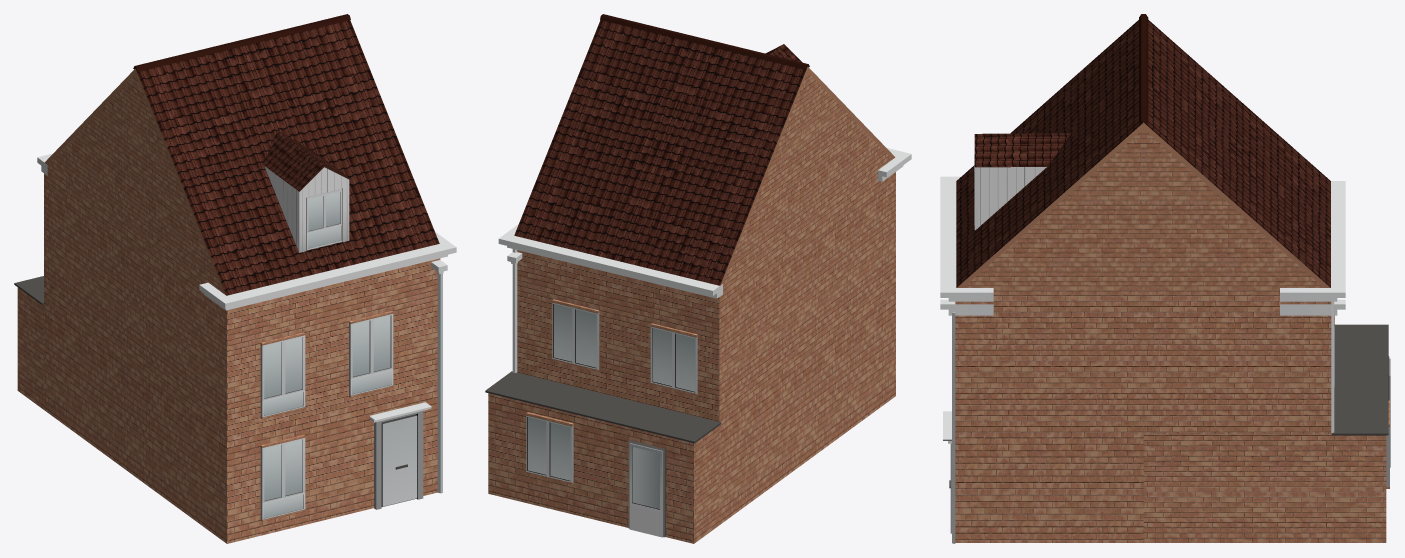
File: Dwershus_8_en_It_Uleboerd_71.fbx
The picture shows the model from 3 angles, left to right: view 1: azimuth 30°, elevation 25°; view 2: azimuth 150°, elevation 25°; view 3: azimuth 270°, elevation 25°; orthographic projection. The views are drawn at different scales.
Visible parts, largest first — view 1: Dwershus_8_en_It_Uleboerd_71; view 2: Dwershus_8_en_It_Uleboerd_71; view 3: Dwershus_8_en_It_Uleboerd_71.
Part boxes in pixels (x1,y1,x2,y2): Dwershus_8_en_It_Uleboerd_71: (14, 14, 456, 543); Dwershus_8_en_It_Uleboerd_71: (485, 14, 911, 543); Dwershus_8_en_It_Uleboerd_71: (940, 14, 1390, 543).
Bounding box in the file's own units: 651 × 1103 × 1066.
